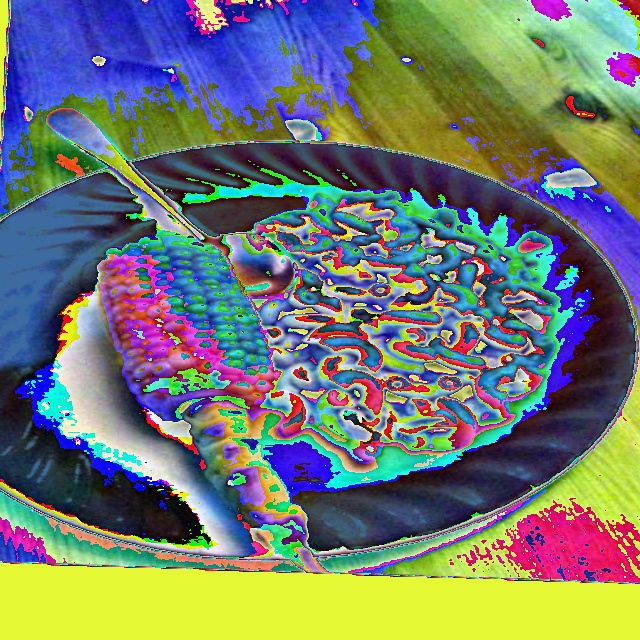background: (93, 188, 561, 572)
